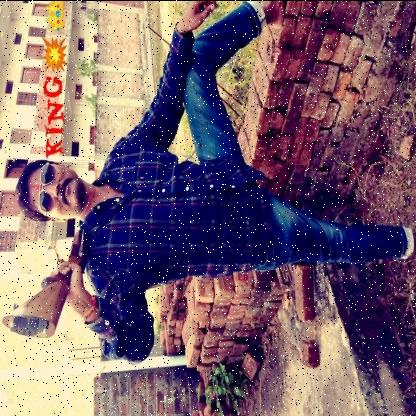rifle: (0, 225, 87, 340)
